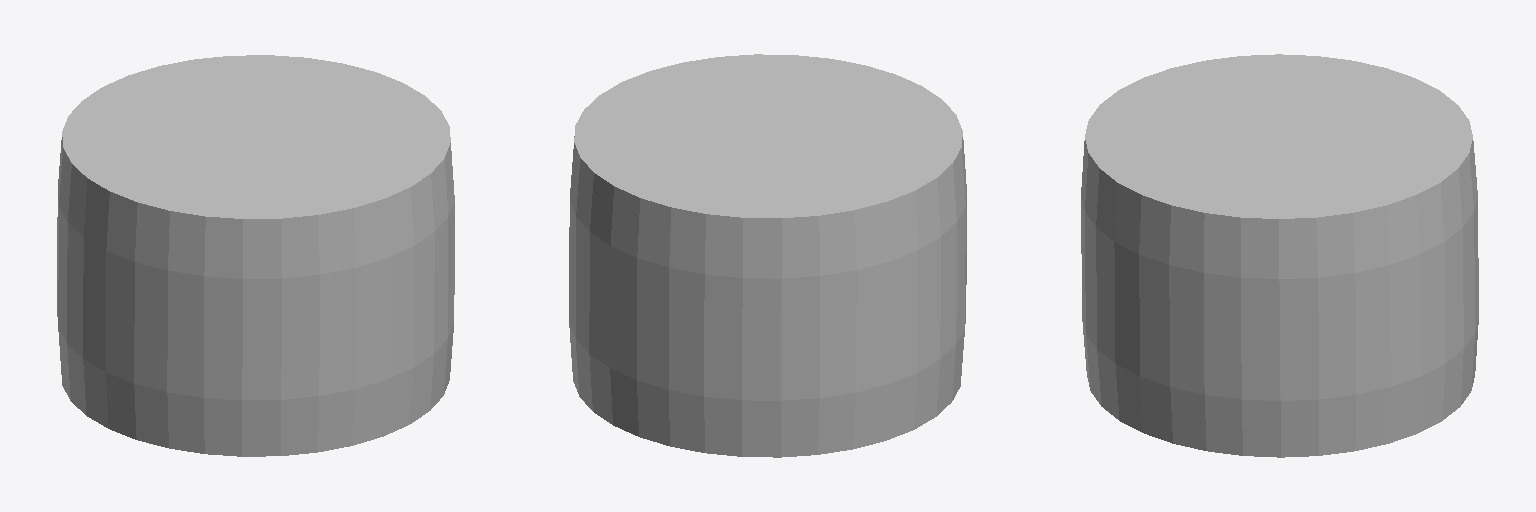
Rendered from Wheel_Col.obj.
3 views of the same model, side by side, from view 1: azimuth 30°, elevation 25°; view 2: azimuth 150°, elevation 25°; view 3: azimuth 270°, elevation 25° (orthographic).
Parts seen in each view (by area): view 1: Cylinder; view 2: Cylinder; view 3: Cylinder.
Part boxes in pixels (left/top/right/bottom): Cylinder: left=57, top=55, right=454, bottom=456; Cylinder: left=569, top=54, right=966, bottom=457; Cylinder: left=1081, top=54, right=1478, bottom=457.
Size of the model in its own units: 0.499 by 0.3294 by 0.4983.